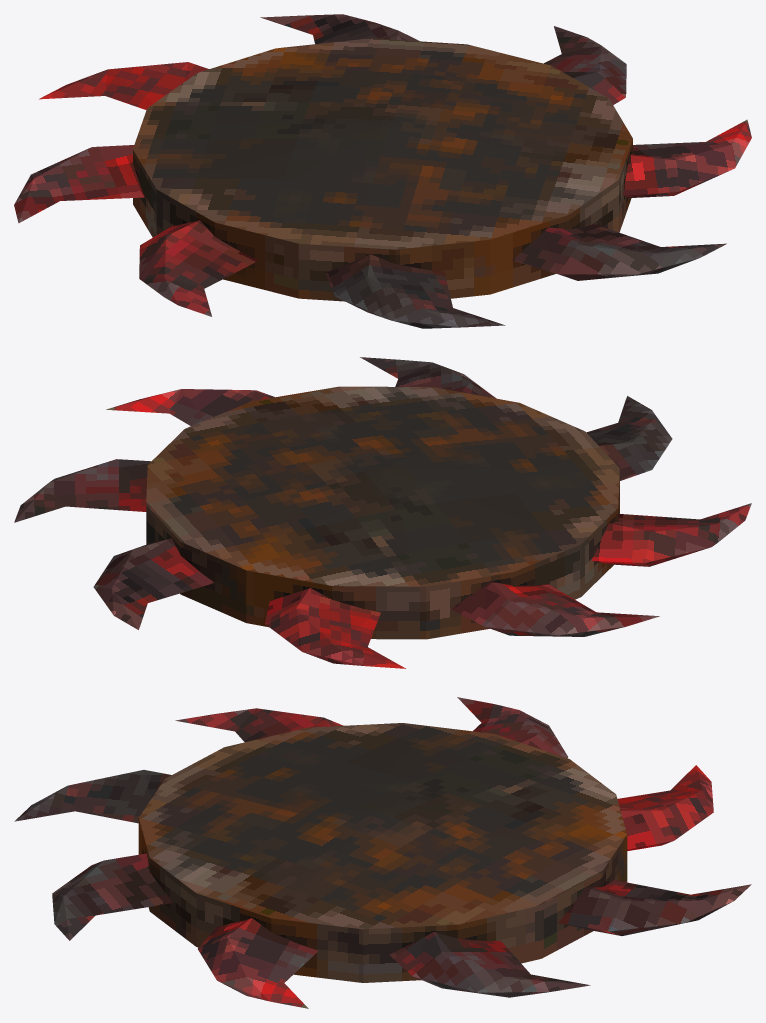
The model's file is item_sawblade.glb.
3 renders of one model, top to bottom at view 1: azimuth 30°, elevation 25°; view 2: azimuth 150°, elevation 25°; view 3: azimuth 270°, elevation 25°, orthographic. The views are drawn at different scales.
Visible parts, largest first — view 1: SawbladeLauncherBlade; view 2: SawbladeLauncherBlade; view 3: SawbladeLauncherBlade.
Boxes of the visible parts, bbox=[...] form: SawbladeLauncherBlade: bbox=[14, 14, 751, 328]; SawbladeLauncherBlade: bbox=[14, 357, 751, 668]; SawbladeLauncherBlade: bbox=[14, 697, 751, 1008].
Bounding box in the file's own units: 0.4787 × 0.0629 × 0.4787.
Materials: 1 (1 with a texture image).
